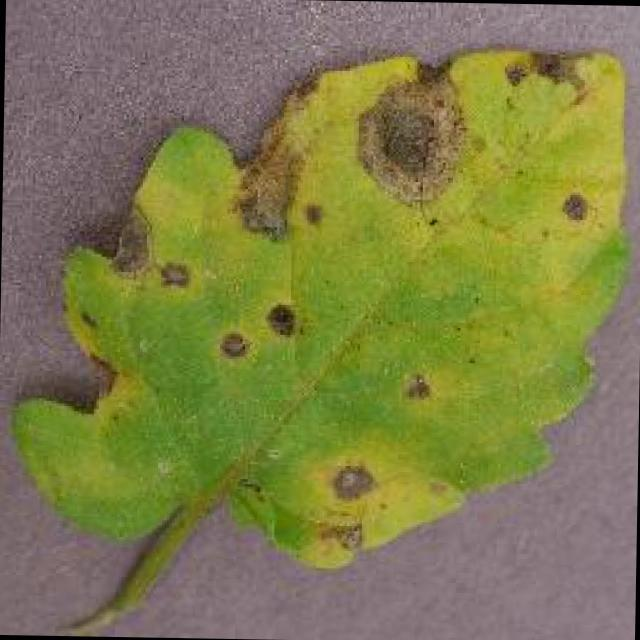Tomato Septoria spot leaf: (3, 35, 628, 577)
